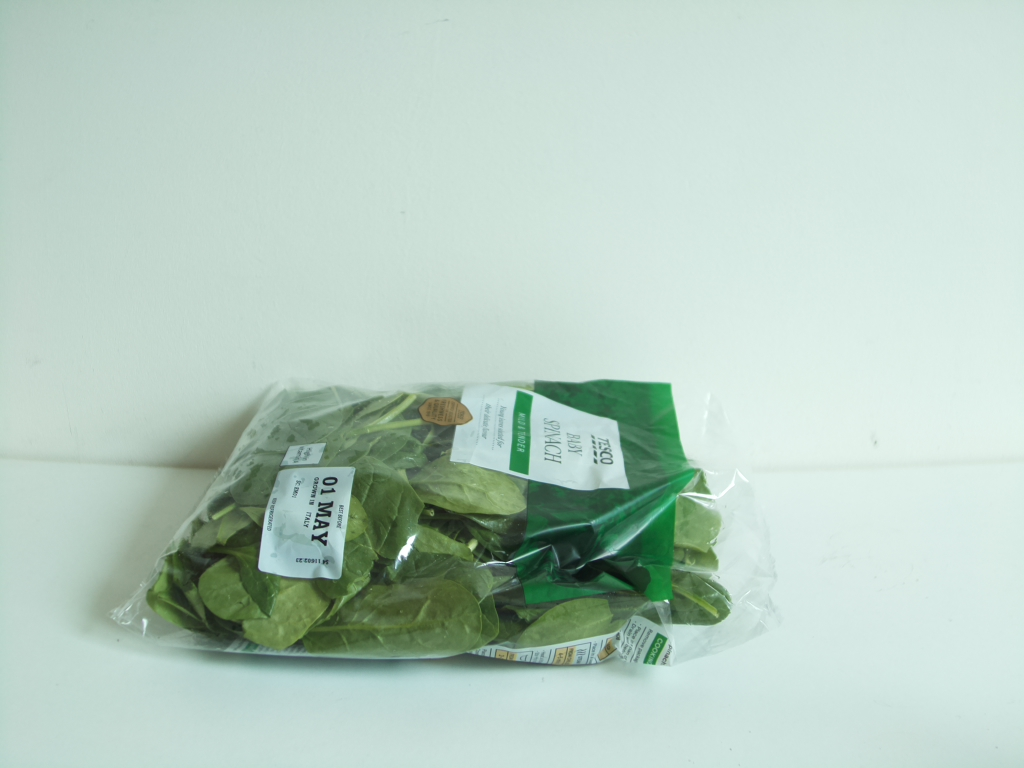salad: (115, 377, 770, 675)
